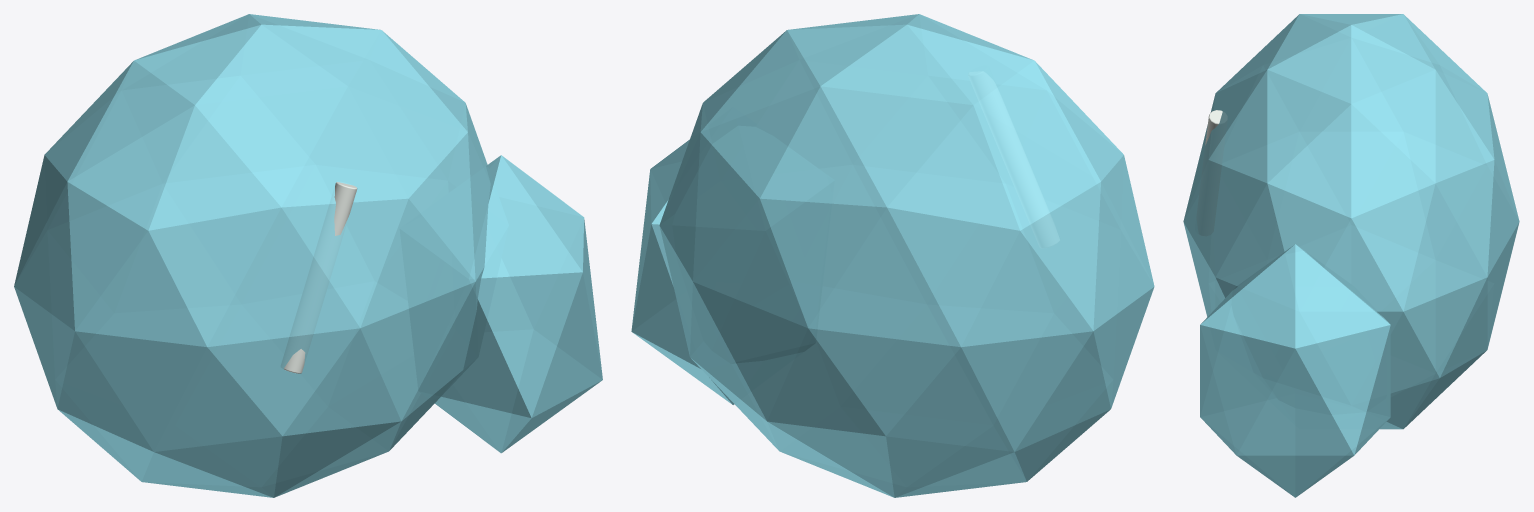
File: Ice_Chunk.glb
The picture shows the model from 3 angles, left to right: view 1: azimuth 30°, elevation 25°; view 2: azimuth 150°, elevation 25°; view 3: azimuth 270°, elevation 25°; orthographic projection. The views are drawn at different scales.
Visible parts, largest first — view 1: Main blue ice, Ice splinter, Frozen highlight; view 2: Main blue ice, Ice splinter; view 3: Main blue ice, Ice splinter.
Part boxes in pixels (x1,y1,x2,y2): Main blue ice: (14, 14, 490, 497); Ice splinter: (435, 155, 602, 453); Frozen highlight: (284, 182, 357, 373); Main blue ice: (659, 14, 1154, 497); Ice splinter: (631, 139, 734, 404); Main blue ice: (1183, 14, 1519, 429); Ice splinter: (1200, 244, 1390, 497).
Bounding box in the file's own units: 0.7106 × 0.62 × 0.48.
